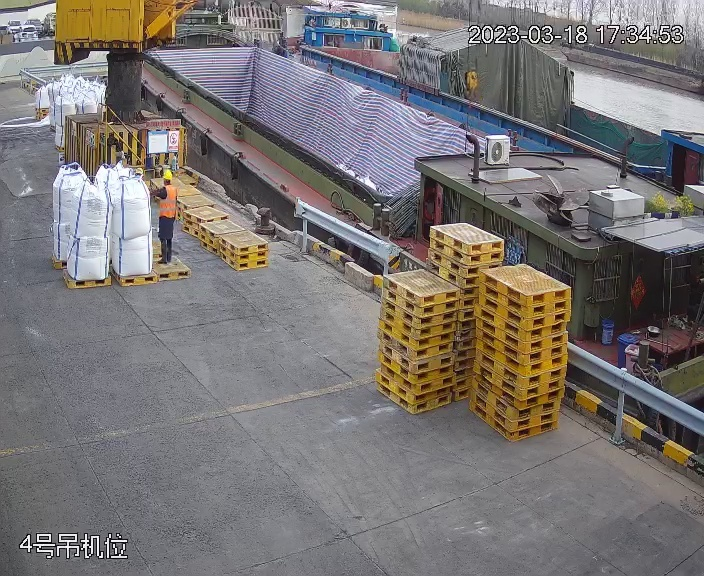head: (156, 167, 176, 199)
helmet: (162, 168, 174, 179)
people: (152, 166, 178, 267)
